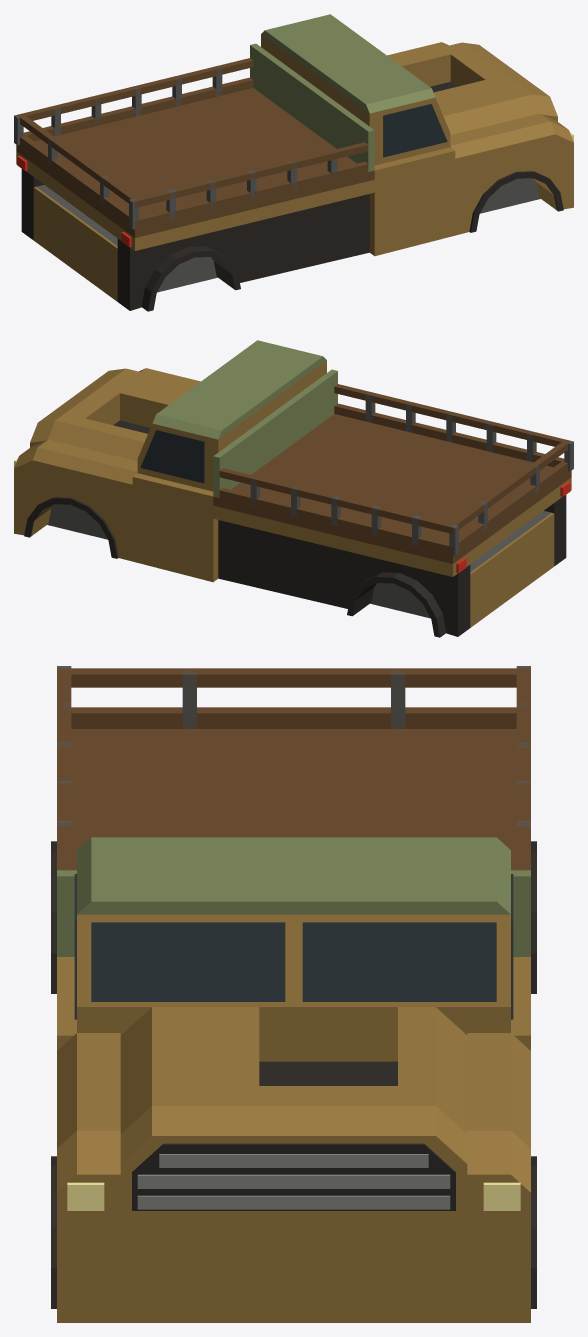
The model's file is base_longbed.glb.
3 renders of one model, top to bottom at view 1: azimuth 30°, elevation 25°; view 2: azimuth 150°, elevation 25°; view 3: azimuth 270°, elevation 25°, orthographic. The views are drawn at different scales.
Visible parts, largest first — view 1: base_longbed; view 2: base_longbed; view 3: base_longbed.
Boxes of the visible parts, bbox=[...] form: base_longbed: bbox=[14, 14, 573, 311]; base_longbed: bbox=[14, 340, 573, 637]; base_longbed: bbox=[51, 666, 536, 1322].
Size of the model in its own units: 7.15 by 2.24 by 3.39.
